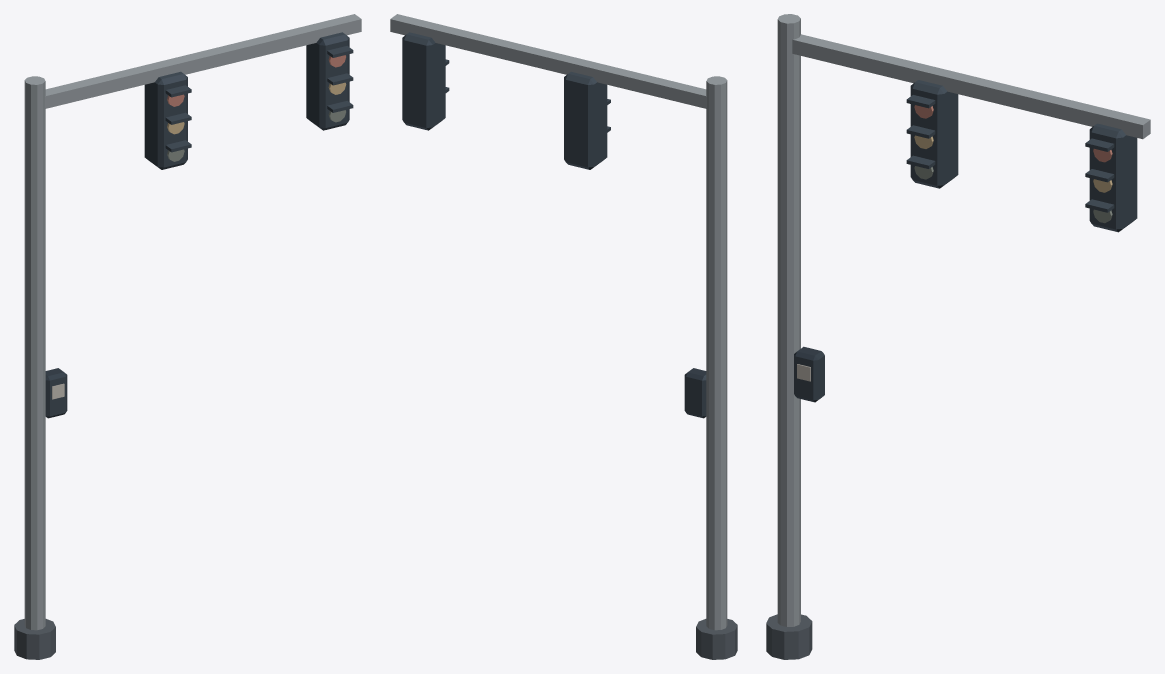
File: escenario_traffic_light.glb
3 renders of one model, left to right at view 1: azimuth 30°, elevation 25°; view 2: azimuth 150°, elevation 25°; view 3: azimuth 330°, elevation 25°, orthographic. The views are drawn at different scales.
Bounding box in the file's own units: 3.38 × 5.4 × 0.4312.
